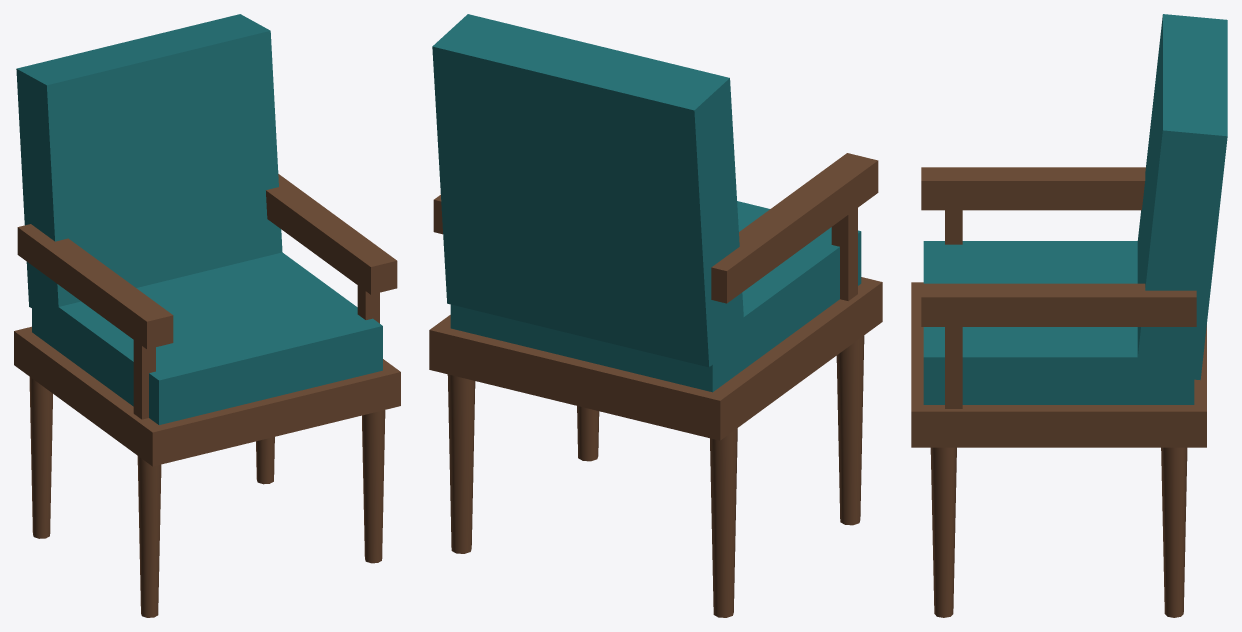
File: lounge-chair-lod1.glb
3 views of the same model, side by side, from view 1: azimuth 30°, elevation 25°; view 2: azimuth 150°, elevation 25°; view 3: azimuth 270°, elevation 25° (orthographic). The views are drawn at different scales.
Visible parts, largest first — view 1: back-cushion, seat-cushion, seat-frame, arm (×2), leg (×4), arm-post (×2); view 2: back-cushion, seat-frame, seat-cushion, leg (×4), arm, arm-post; view 3: seat-cushion, back-cushion, arm (×2), seat-frame, leg (×2), arm-post (×2).
Boxes of the visible parts, x1,y1,x2,y2 form: back-cushion: [16, 14, 282, 322]; seat-cushion: [32, 252, 382, 424]; seat-frame: [14, 326, 400, 466]; arm (×2): [17, 174, 397, 349]; leg (×4): [29, 377, 385, 617]; arm-post (×2): [133, 285, 379, 419]; back-cushion: [432, 14, 744, 367]; seat-frame: [429, 277, 882, 440]; seat-cushion: [450, 201, 861, 392]; leg (×4): [447, 335, 864, 617]; arm: [711, 153, 878, 303]; arm-post: [831, 208, 857, 300]; seat-cushion: [923, 241, 1194, 404]; back-cushion: [1136, 14, 1227, 380]; arm (×2): [921, 167, 1196, 326]; seat-frame: [911, 282, 1206, 447]; leg (×2): [930, 447, 1187, 617]; arm-post (×2): [945, 210, 962, 408].
Bounding box in the file's own units: 0.615 × 1.07 × 0.6316.
